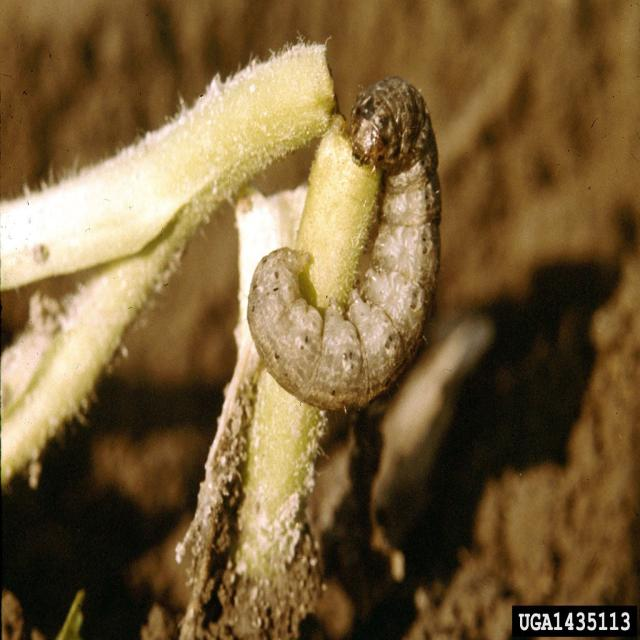Cutworm: (246, 80, 442, 413)
